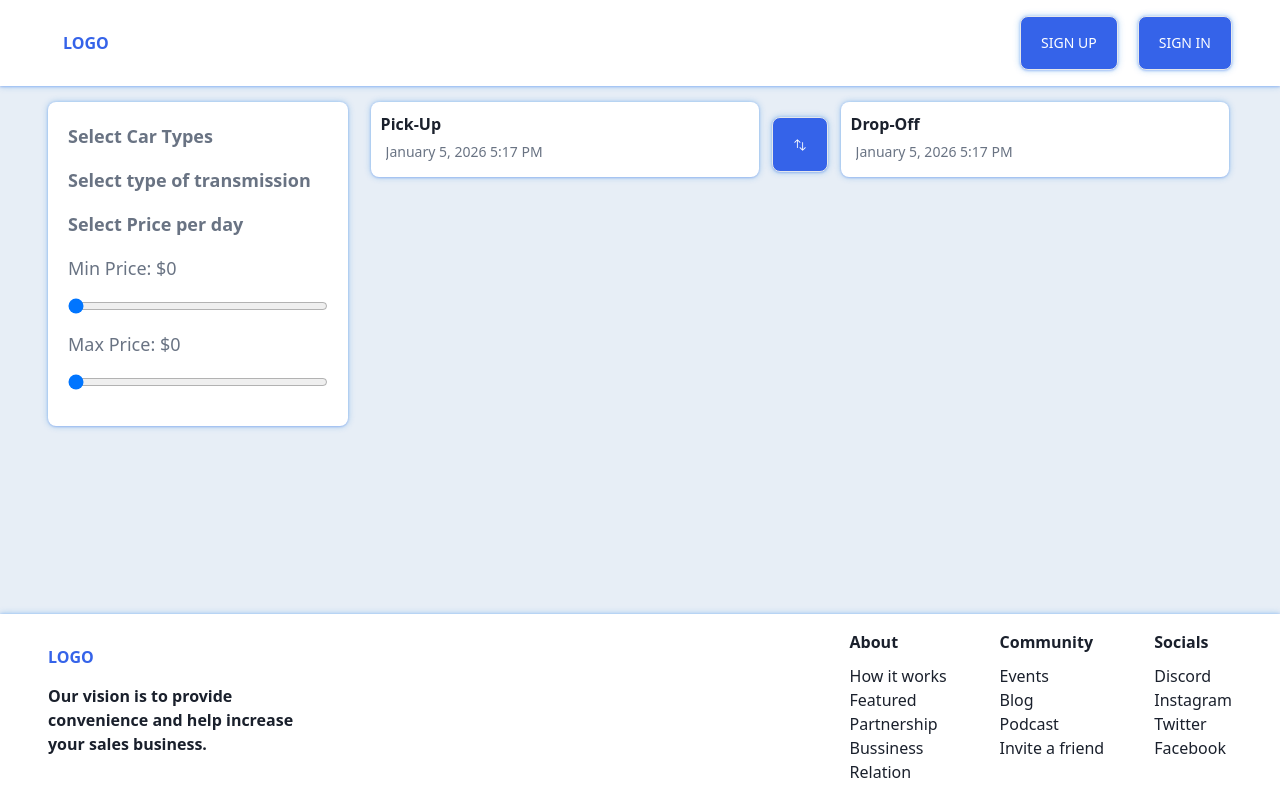
Test: SignUpForm validation testing › displays validation errors when submitting empty form
Click the button "SIGN UP".
click(1069, 43)  # box 1020,16 -> 1118,70
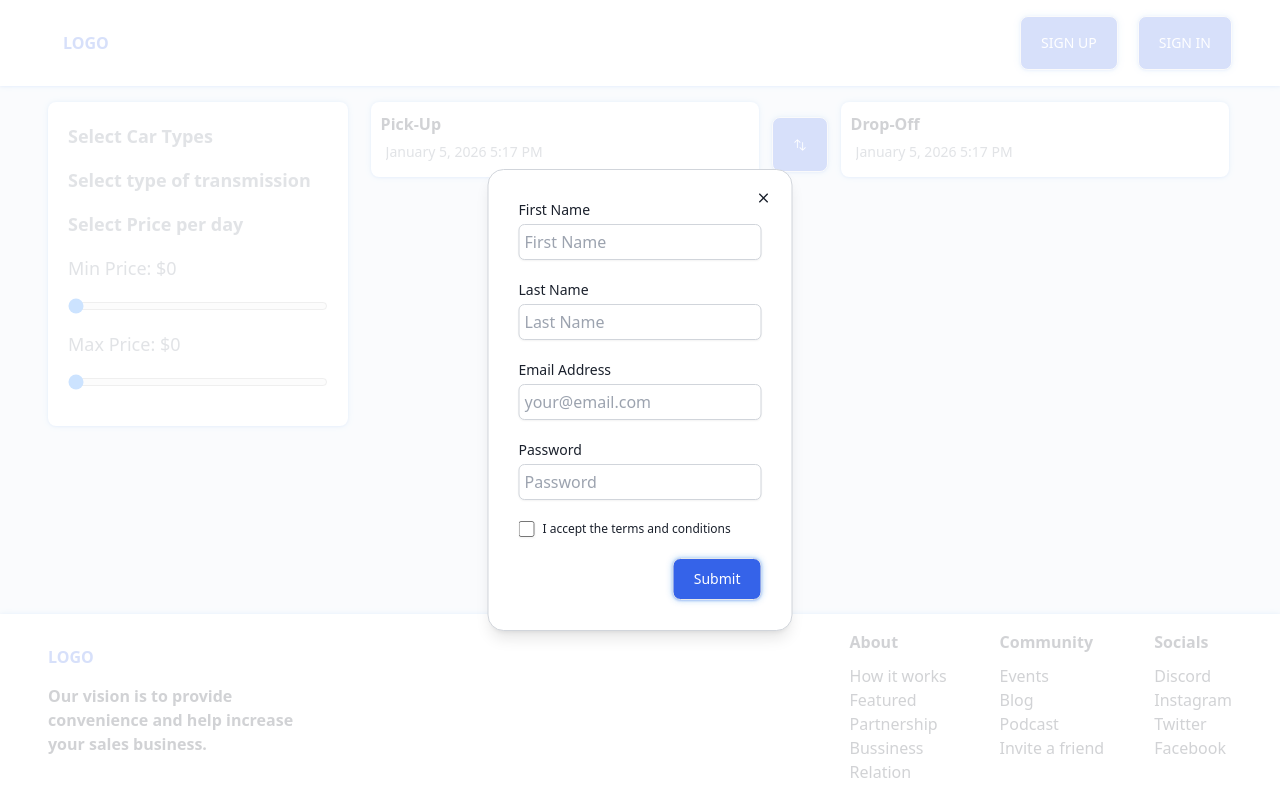
Result: the form with test id "signUpForm" is shown
Submit the form with test id "signUpForm", box 519,200 -> 762,600
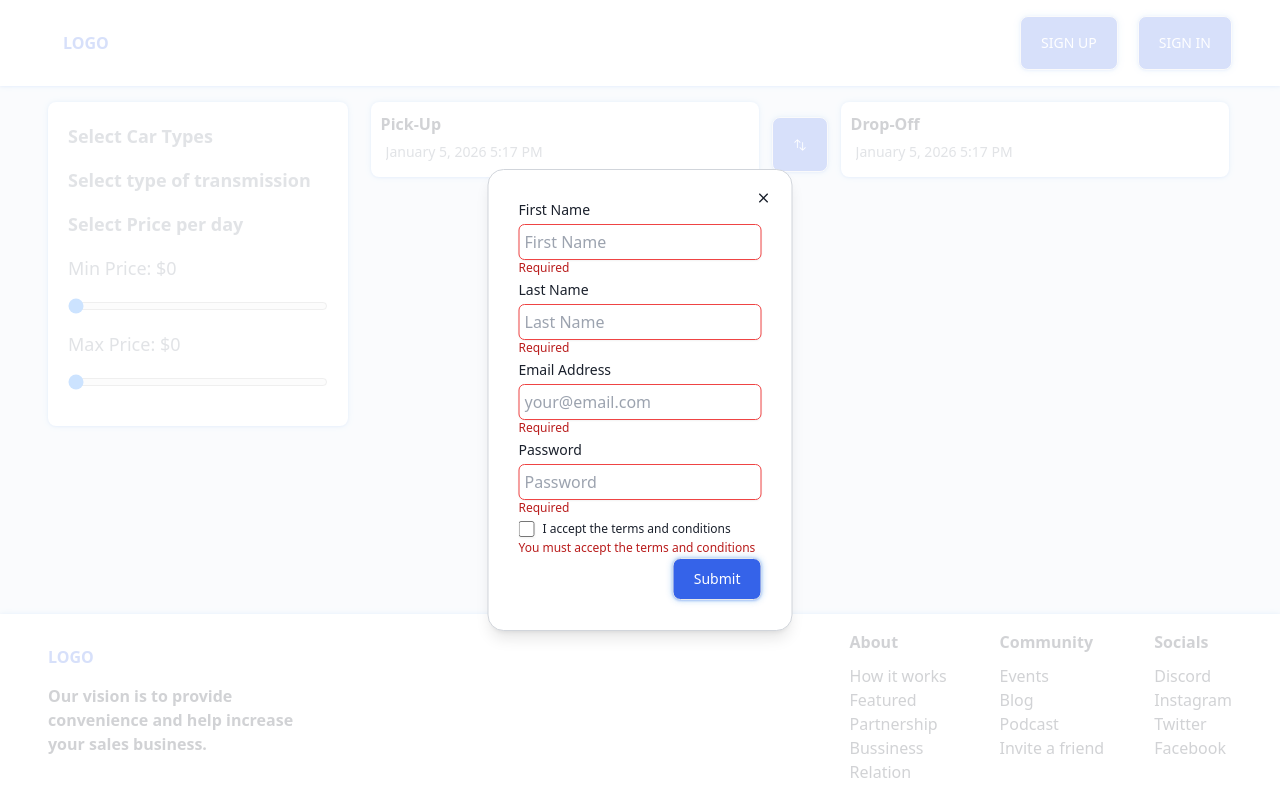
Result: the 1st text "Required" is shown at 518,260 -> 570,276
Result: the text "You must accept the terms and conditions" is shown at 518,540 -> 755,556
